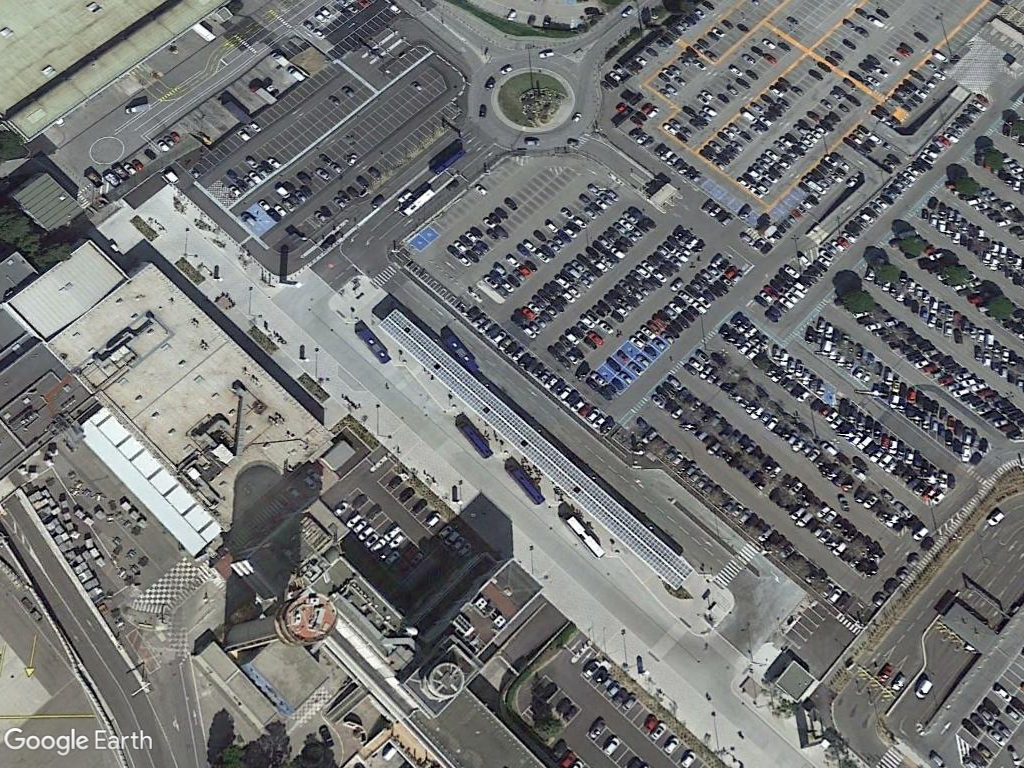bus: (561, 507, 609, 563), (505, 457, 548, 507), (454, 414, 496, 462), (355, 317, 393, 366), (392, 179, 438, 218), (426, 143, 470, 177)
